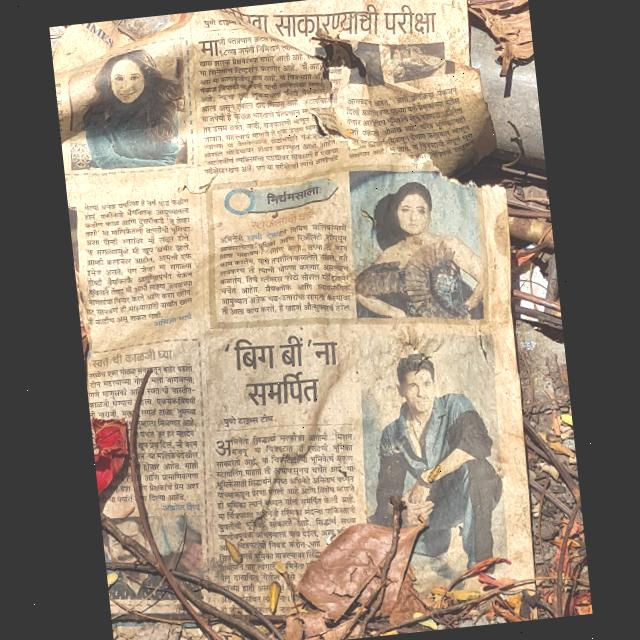trash: (48, 0, 550, 640), (196, 170, 362, 334)
